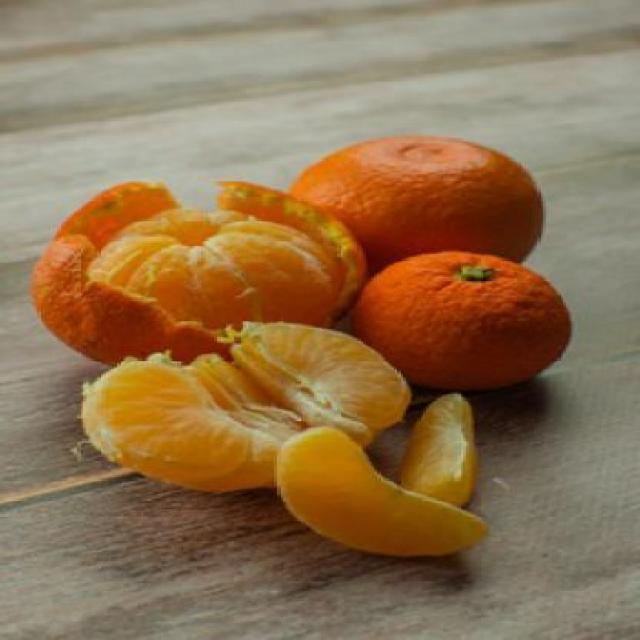Jeruk Sudah Matang: (274, 127, 550, 296), (351, 250, 584, 379)
